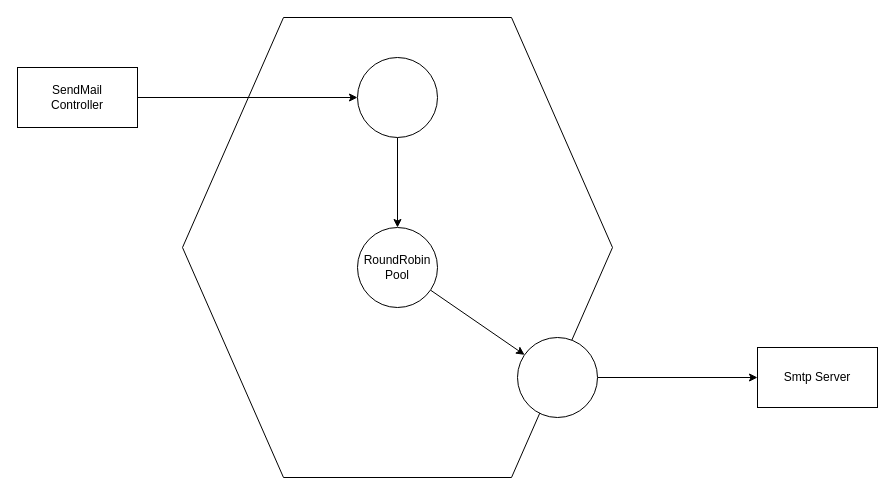
This 895x495 diagram has some shape labels left out. The centre of each missing label's shape, as x and y in pixels:
EmailSaga Grain: point 397,97
SmtpPort Actor: point 557,377
